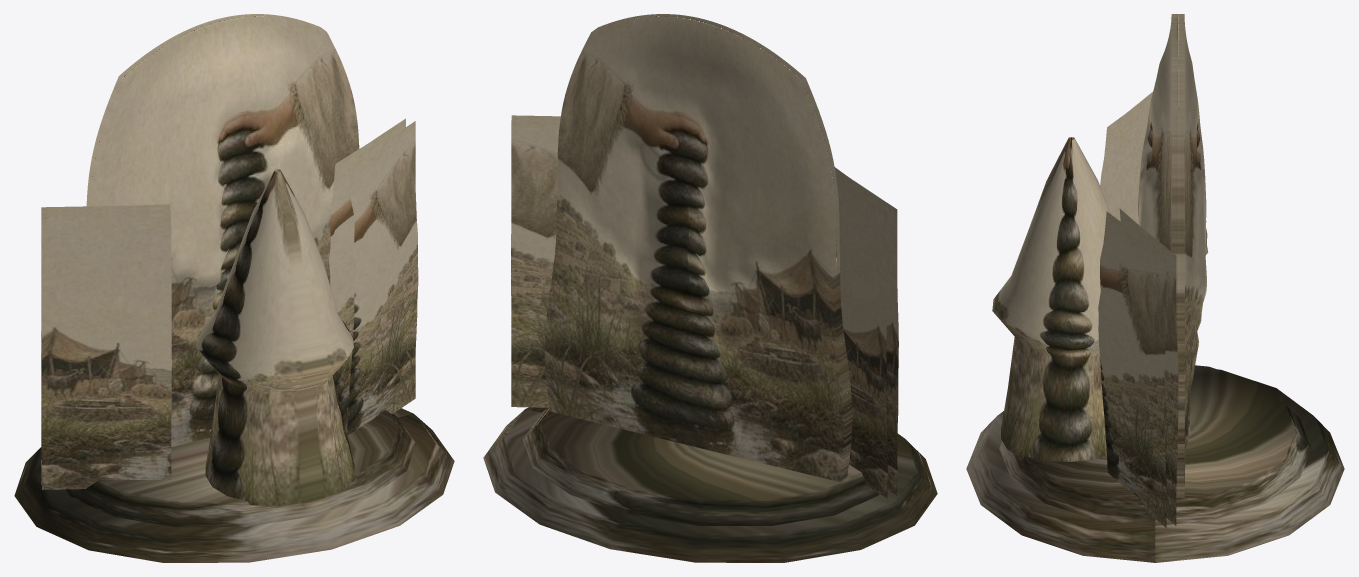
The model's file is joshua-judges-6.glb.
3 views of the same model, side by side, from view 1: azimuth 30°, elevation 25°; view 2: azimuth 150°, elevation 25°; view 3: azimuth 270°, elevation 25° (orthographic). The views are drawn at different scales.
Parts seen in each view (by area): view 1: PaintingSculptureMonument; view 2: PaintingSculptureMonument; view 3: PaintingSculptureMonument.
Boxes of the visible parts, left/top/right/bottom form: PaintingSculptureMonument: left=14, top=14, right=454, bottom=562; PaintingSculptureMonument: left=483, top=14, right=937, bottom=562; PaintingSculptureMonument: left=966, top=14, right=1344, bottom=562.
Size of the model in its own units: 2.76 by 2.99 by 2.35.
1 material, 1 textured.
